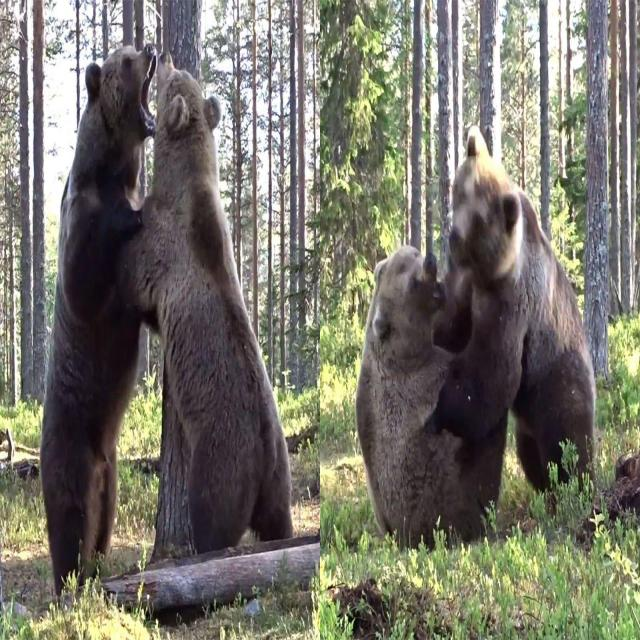Bear: (142, 64, 295, 553), (429, 136, 597, 514), (363, 250, 494, 549)
